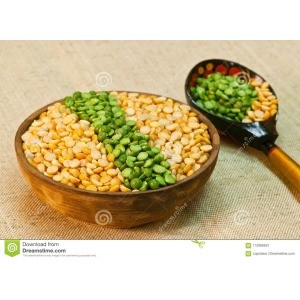green pea_brain food: (52, 102, 161, 179), (201, 68, 270, 122)
